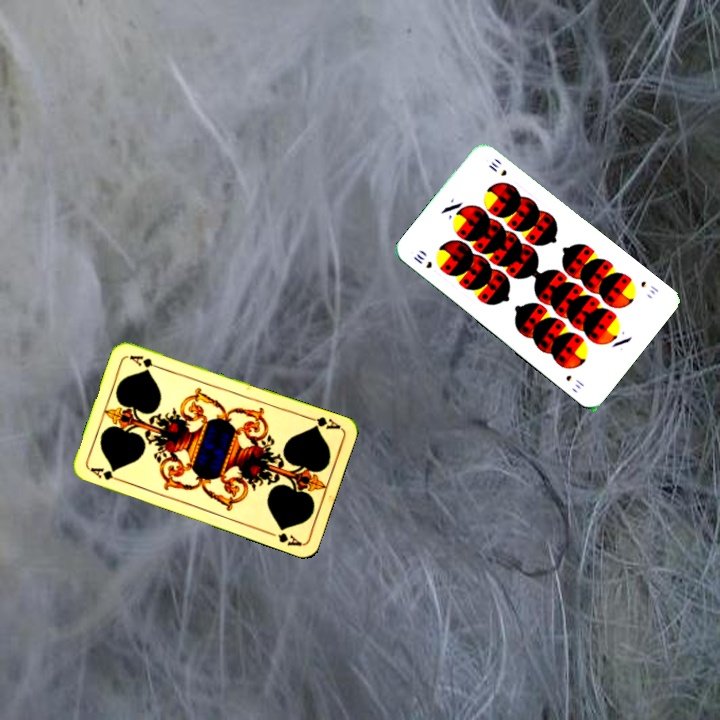GA: (86, 463, 125, 484), (303, 412, 343, 432)
S10: (409, 249, 435, 271), (636, 277, 661, 298)
